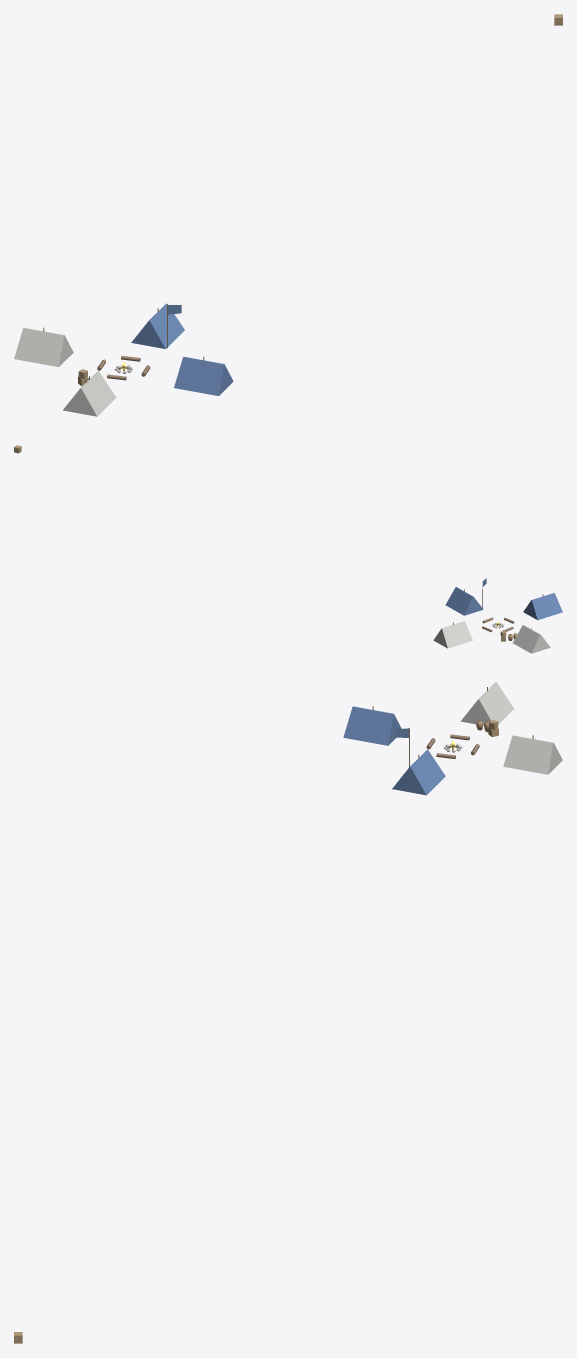
File: struct_9_3.glb
The picture shows the model from 3 angles, top to bottom: view 1: azimuth 90°, elevation 25°; view 2: azimuth 150°, elevation 25°; view 3: azimuth 270°, elevation 25°; orthographic projection. The views are drawn at different scales.
Parts seen in each view (by area): view 1: Landmarks; view 2: Landmarks; view 3: Landmarks.
Part boxes in pixels (box(x1,y1,x2,y2)): Landmarks: box(14, 14, 562, 416); Landmarks: box(14, 445, 562, 653); Landmarks: box(14, 682, 562, 1343).
Bounding box in the file's own units: 127 × 19.08 × 56.82.
